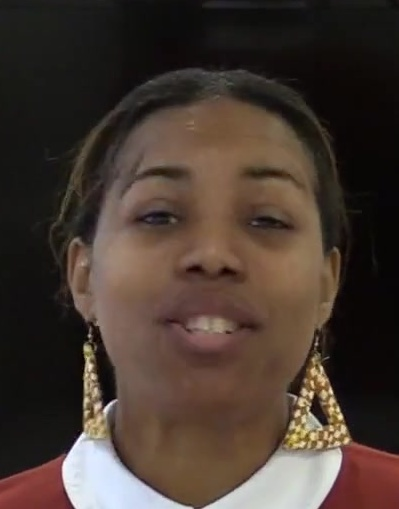eb_f: (111, 141, 318, 246)
